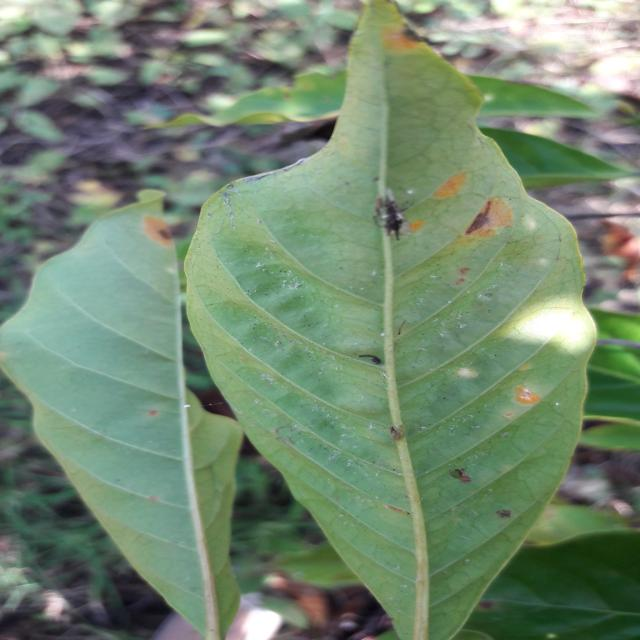Enfermedad-Roya: (183, 0, 587, 640)
